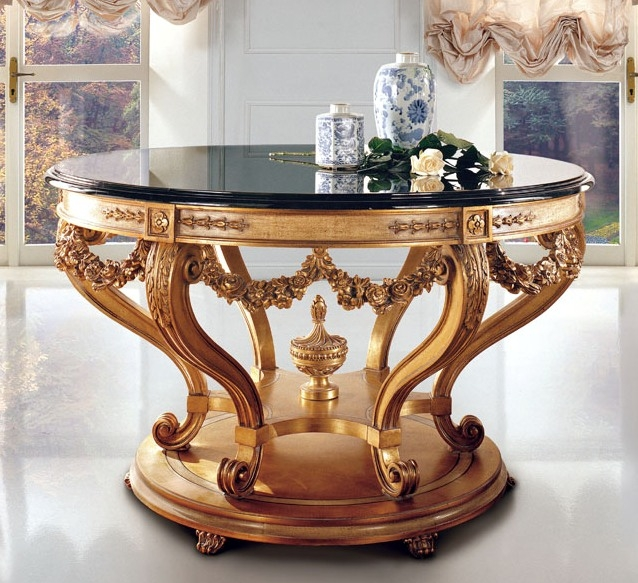Carving Table: (32, 114, 572, 539)
